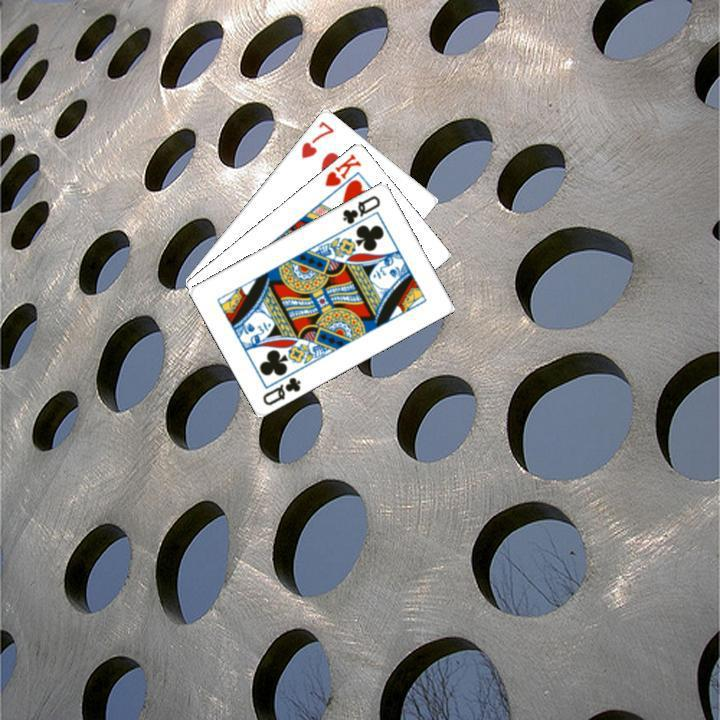7: (296, 116, 336, 160)
K: (320, 149, 363, 188)
Q: (338, 190, 382, 226), (258, 372, 303, 407)
